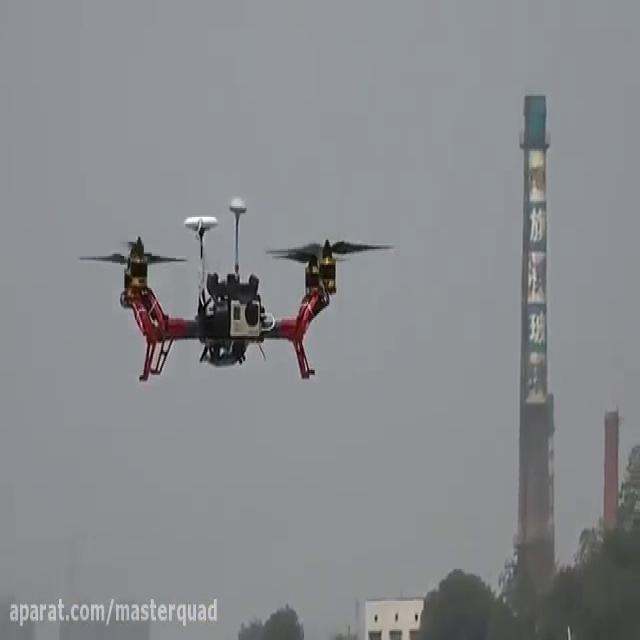drone: (74, 190, 398, 390)
